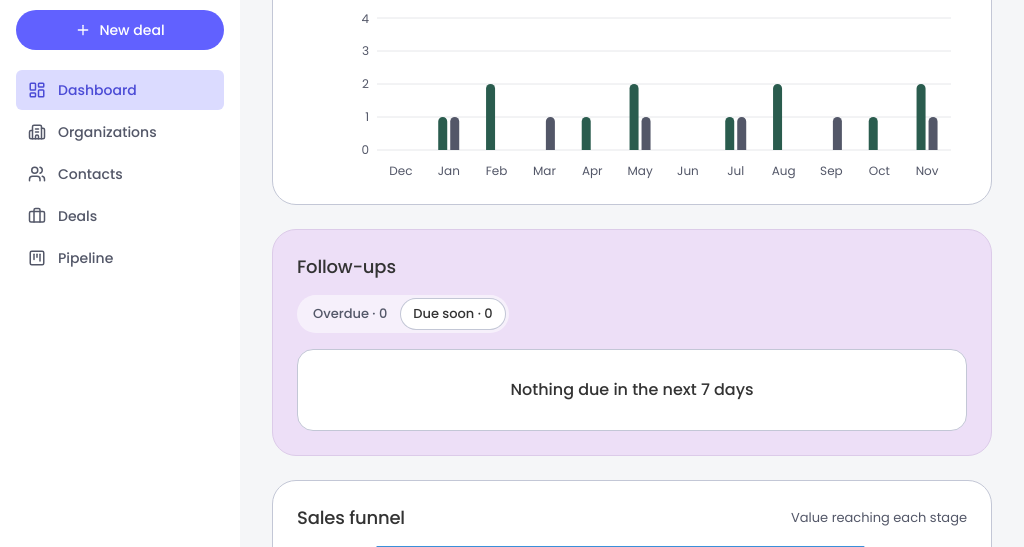
Scenario: dashboard (B1–B7) › says so when nothing has been logged and nothing is due
(page scrolled)
Expected: the text "Nothing due in the next 7 days" is shown, [510,378,754,402]
Click the tab "Overdue · 0" at (350, 314), box [301,299,399,329]
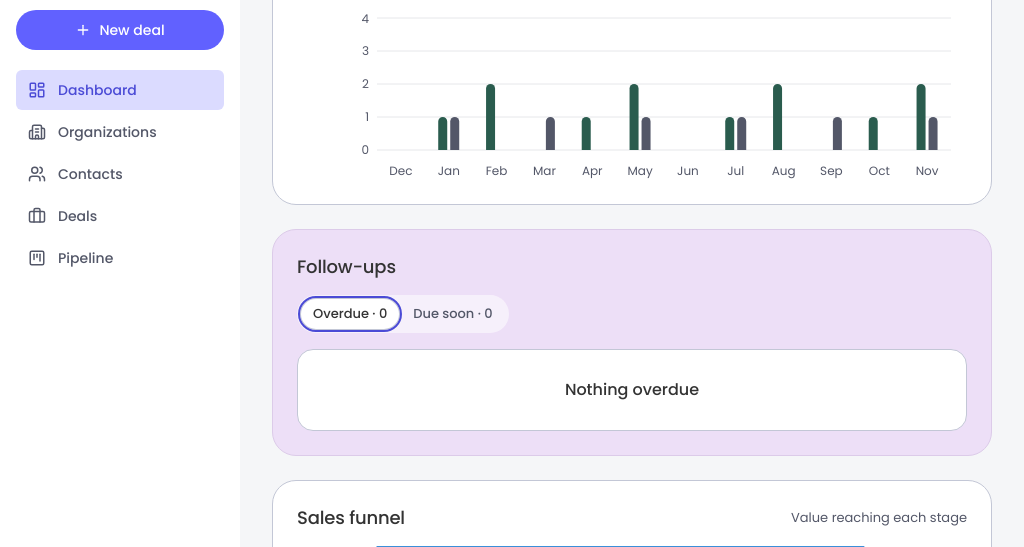
Expected: the text "Nothing overdue" is shown, [565,378,699,402]
